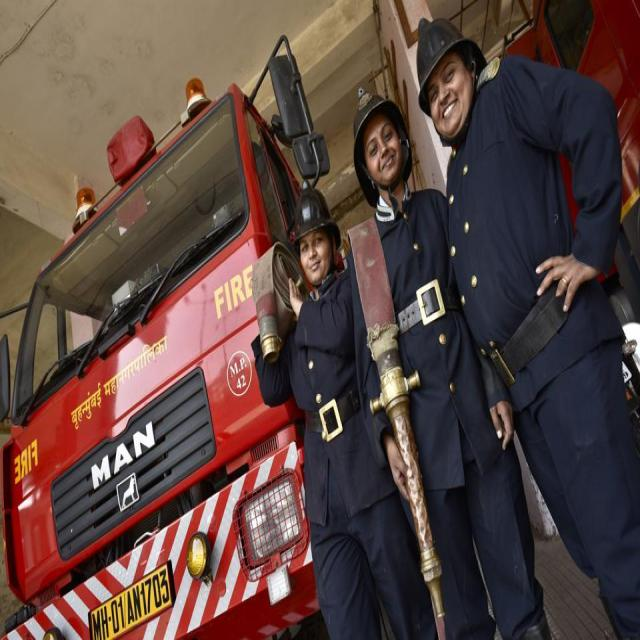emergency: (0, 85, 318, 633)
